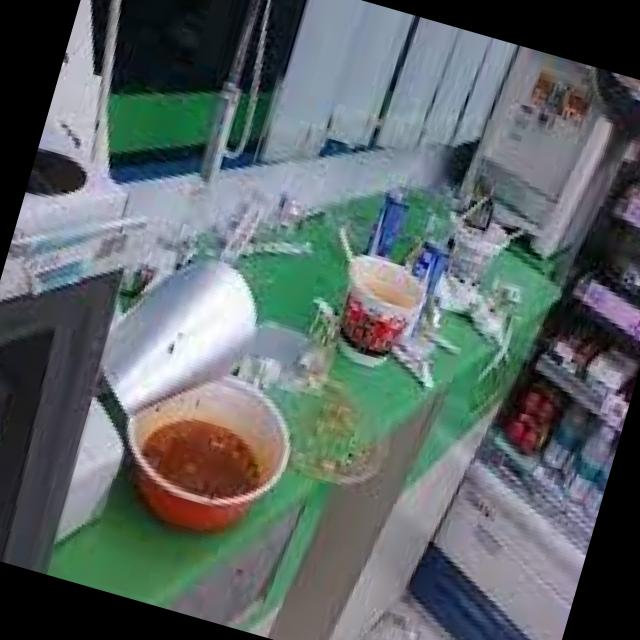Instant Noodle Cups: (127, 370, 290, 538), (333, 252, 426, 368), (446, 218, 509, 286)
paper: (214, 186, 271, 260)
plastic-bowl: (257, 365, 390, 491)
trash: (96, 250, 256, 422), (246, 315, 330, 393)
